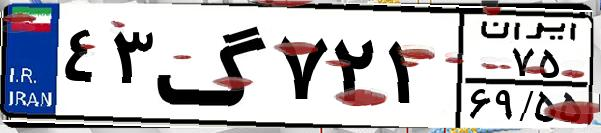1: (385, 28, 445, 110)
2: (330, 28, 385, 110)
3: (110, 28, 156, 98)
4: (57, 26, 110, 100)
5: (560, 70, 590, 125), (537, 27, 568, 80), (535, 70, 560, 125)
6: (470, 70, 495, 125)
7: (270, 28, 330, 110), (508, 27, 537, 80)
9: (495, 70, 520, 125)
گ: (156, 12, 270, 120)
